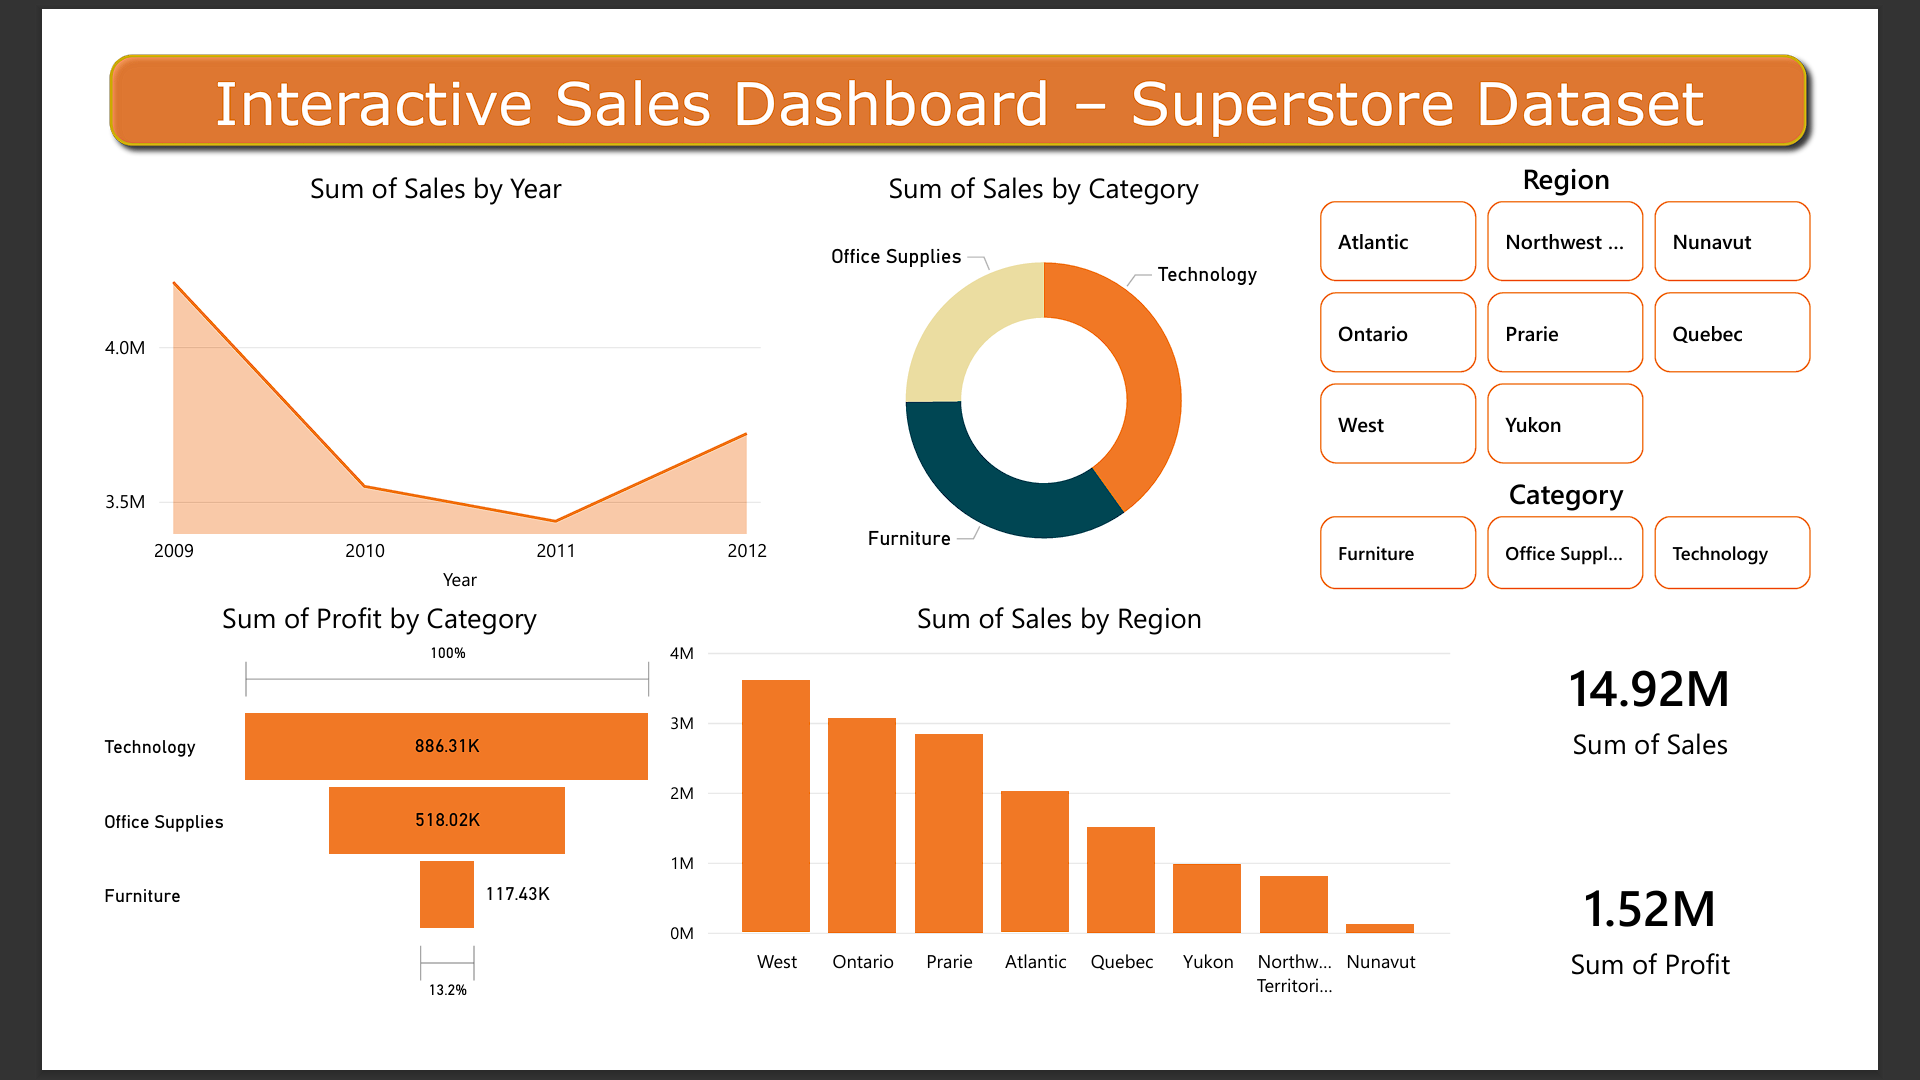

The dashboard page shown, as its layout file describes it:
{"tool":"powerbi","page":{"name":"Page 1","canvas":[1280,720],"ordinal":0},"visuals":[{"type":"card","fields":{"Values":["Sum(Cleaned_Superstore_Sales.Sales)"]},"box":[1000,402,280,156],"z":0},{"type":"card","fields":{"Values":["Sum(Cleaned_Superstore_Sales.Profit)"]},"box":[1000.3,558.5,279.9,161.9],"z":1000},{"type":"columnChart","fields":{"Category":["Cleaned_Superstore_Sales.Region"],"Y":["Sum(Cleaned_Superstore_Sales.Sales)"]},"box":[425.4,402.1,575,297.8],"z":2000},{"type":"lineChart","fields":{"Y":["Sum(Cleaned_Superstore_Sales.Sales)"],"Category":["Cleaned_Superstore_Sales.Month-Year.Variation.Date Hierarchy.Year","Cleaned_Superstore_Sales.Month-Year.Variation.Date Hierarchy.Quarter","Cleaned_Superstore_Sales.Month-Year.Variation.Date Hierarchy.Month","Cleaned_Superstore_Sales.Month-Year.Variation.Date Hierarchy.Day"]},"box":[16.5,90.6,489.9,311.5],"z":3000},{"type":"donutChart","fields":{"Category":["Cleaned_Superstore_Sales.Category"],"Y":["Sum(Cleaned_Superstore_Sales.Sales)"]},"box":[506.3,90.6,389.7,311.5],"z":4000},{"type":"advancedSlicerVisual","fields":{"Values":["Cleaned_Superstore_Sales.Region"]},"box":[896.1,83.7,366.4,227.8],"z":5000,"group":"g1"},{"type":"advancedSlicerVisual","fields":{"Values":["Cleaned_Superstore_Sales.Category"]},"box":[896.1,311.5,366.4,90.6],"z":6000,"group":"g1"},{"type":"funnel","fields":{"Category":["Cleaned_Superstore_Sales.Category"],"Y":["Sum(Cleaned_Superstore_Sales.Profit)"]},"box":[16.5,402.1,408.9,297.8],"z":7000},{"type":"shape","box":[16,0,1246,84],"z":8000},{"type":"textbox","box":[17,12,1245,64],"z":9000},{"type":"group","id":"g1","title":"Group 1","box":[896.1,83.7,366.4,318.4],"z":9001}]}

Visuals, with their boxes in screenshot pixels (x1, y1, x2, y2), scaled from the page's 1280x720 canvas onto the 1920x1080 screenshot:
card - Sum(Cleaned_Superstore_Sales.Sales): {"left": 1500, "top": 603, "right": 1919, "bottom": 837}
card - Sum(Cleaned_Superstore_Sales.Profit): {"left": 1500, "top": 838, "right": 1919, "bottom": 1079}
columnChart - Cleaned_Superstore_Sales.Region x Sum(Cleaned_Superstore_Sales.Sales): {"left": 638, "top": 603, "right": 1501, "bottom": 1050}
lineChart - Sum(Cleaned_Superstore_Sales.Sales) x Cleaned_Superstore_Sales.Month-Year.Variation.Date Hierarchy.Year: {"left": 25, "top": 136, "right": 760, "bottom": 603}
donutChart - Cleaned_Superstore_Sales.Category x Sum(Cleaned_Superstore_Sales.Sales): {"left": 759, "top": 136, "right": 1344, "bottom": 603}
advancedSlicerVisual - Cleaned_Superstore_Sales.Region: {"left": 1344, "top": 126, "right": 1894, "bottom": 467}
advancedSlicerVisual - Cleaned_Superstore_Sales.Category: {"left": 1344, "top": 467, "right": 1894, "bottom": 603}
funnel - Cleaned_Superstore_Sales.Category x Sum(Cleaned_Superstore_Sales.Profit): {"left": 25, "top": 603, "right": 638, "bottom": 1050}
shape: {"left": 24, "top": 0, "right": 1893, "bottom": 126}
textbox: {"left": 26, "top": 18, "right": 1893, "bottom": 114}
"Group 1" group: {"left": 1344, "top": 126, "right": 1894, "bottom": 603}
